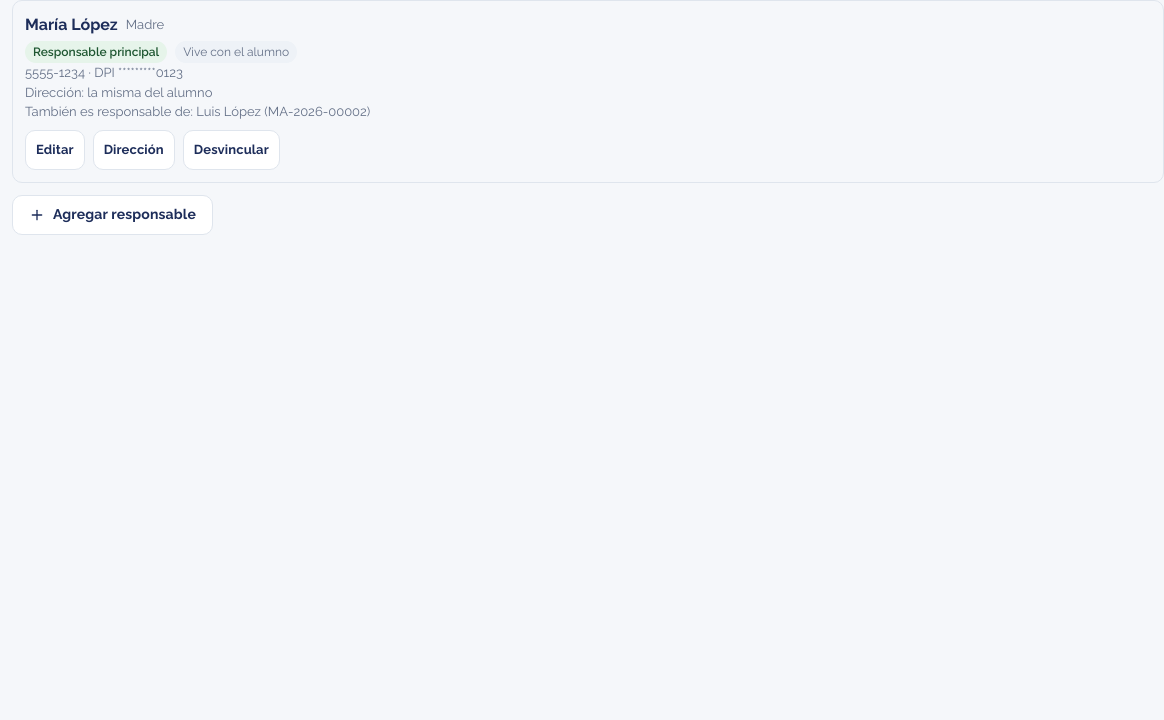
Test: panel de padres, madres y tutores › registra una dirección propia para el responsable que no vive con el alumno
This screenshot has width=1164, height=720.
Expected: the text "Dirección: la misma del alumno" is shown, 25,84 -> 212,100
Click the button with aria-label "Dirección de María López" at coordinates (134, 150), box 93,130 -> 175,170
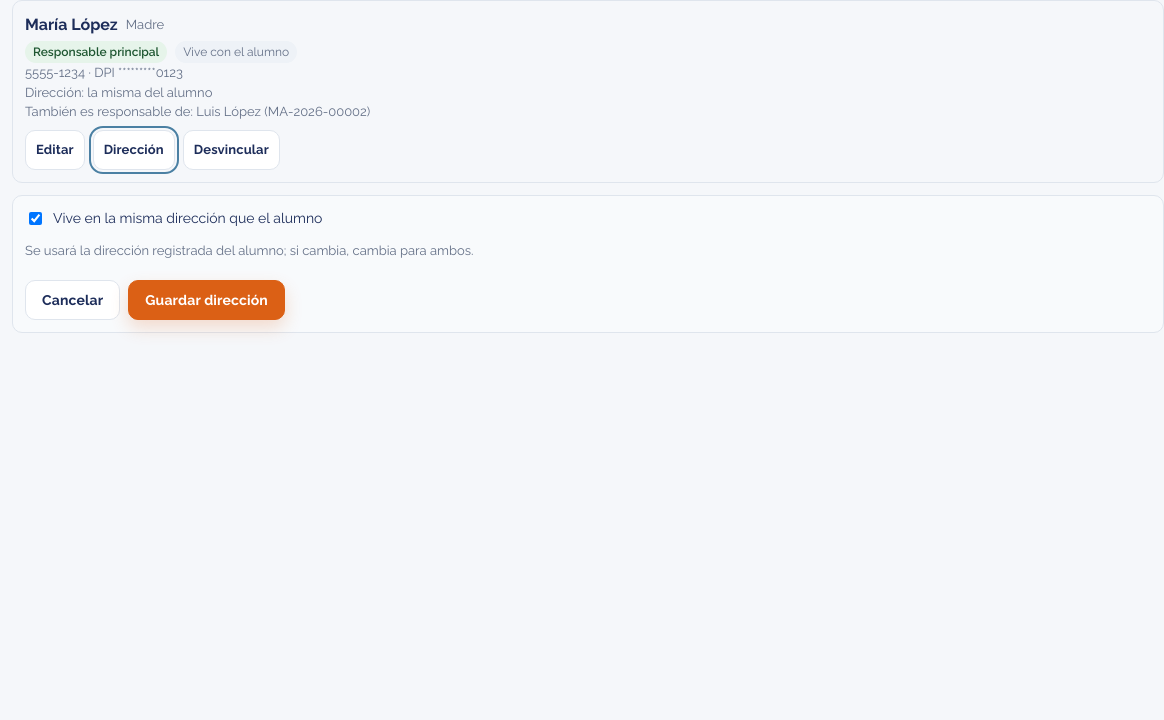
Click the checkbox labelled "Vive en la misma dirección que el alumno" at coordinates (36, 218), box 29,212 -> 42,224
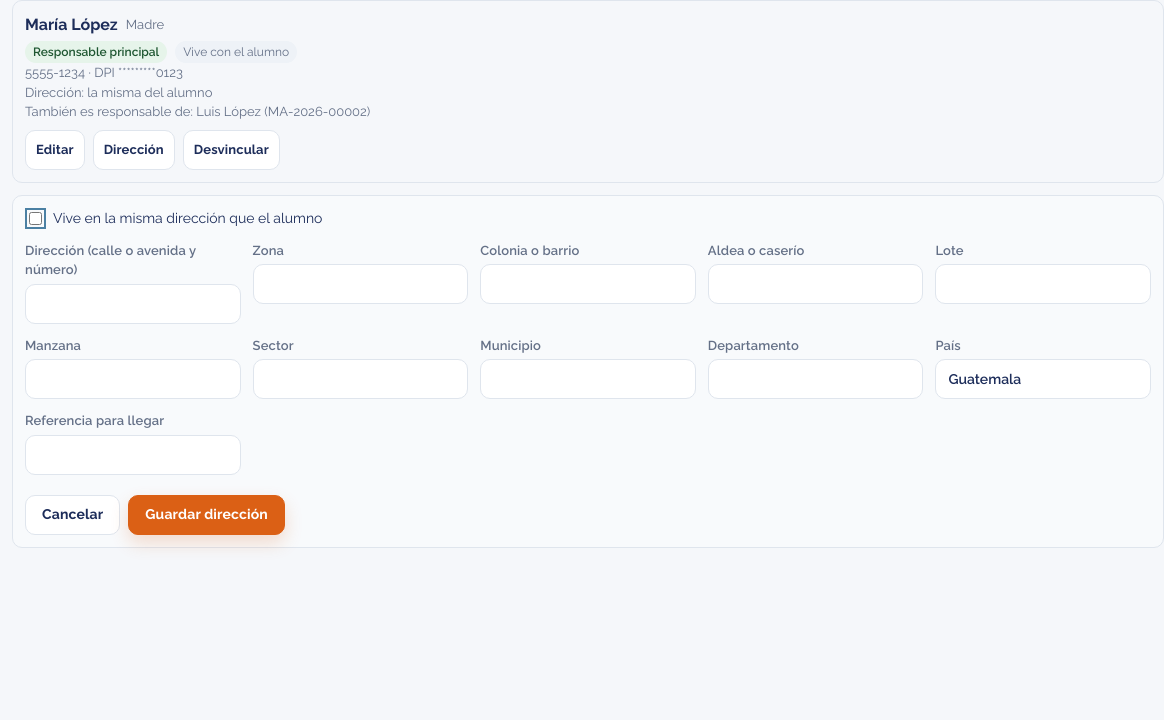
Type "Km 18" into the field labelled "Dirección (calle o avenida y número)" at coordinates (133, 304), box 25,284 -> 241,324
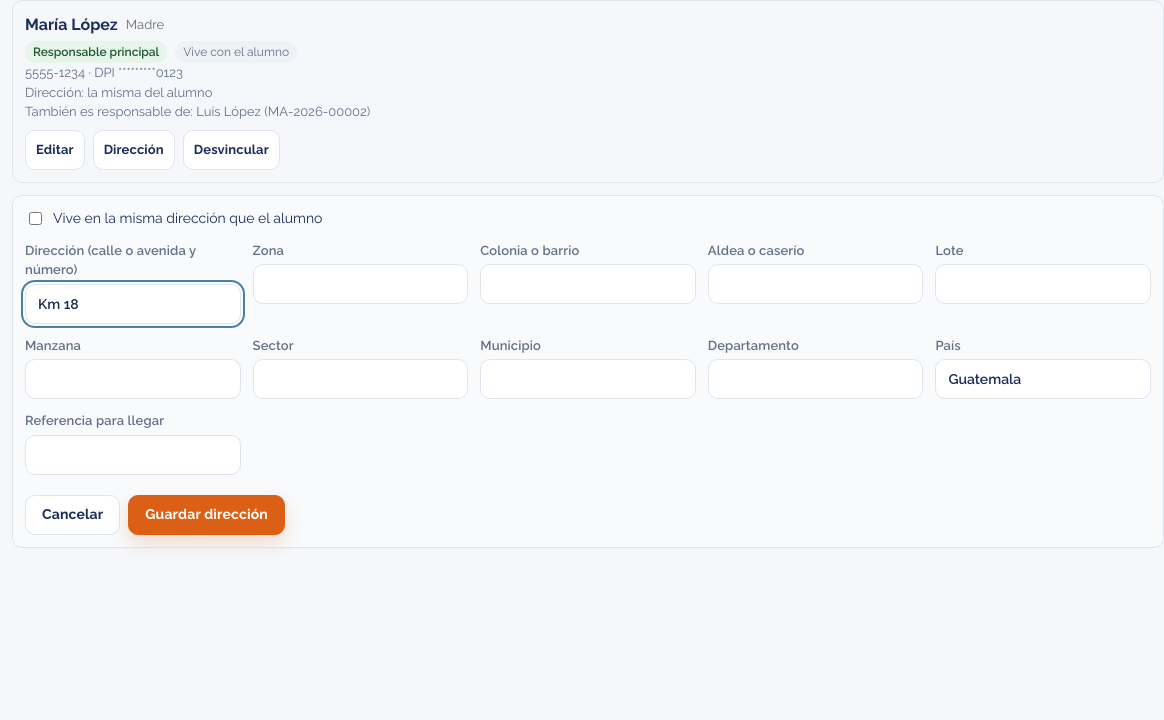
Type "Fraijanes" into the field labelled "Municipio" at coordinates (588, 379), box 480,359 -> 696,399
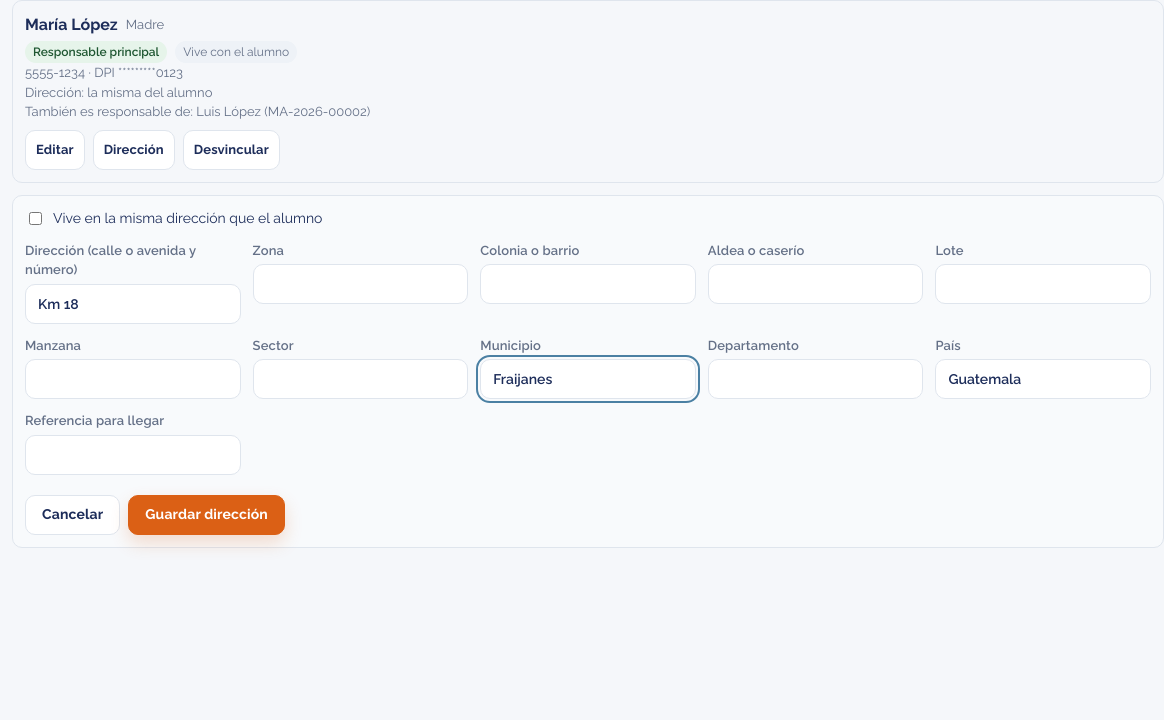
Type "Guatemala" into the field labelled "Departamento" at coordinates (816, 379), box 708,359 -> 923,399
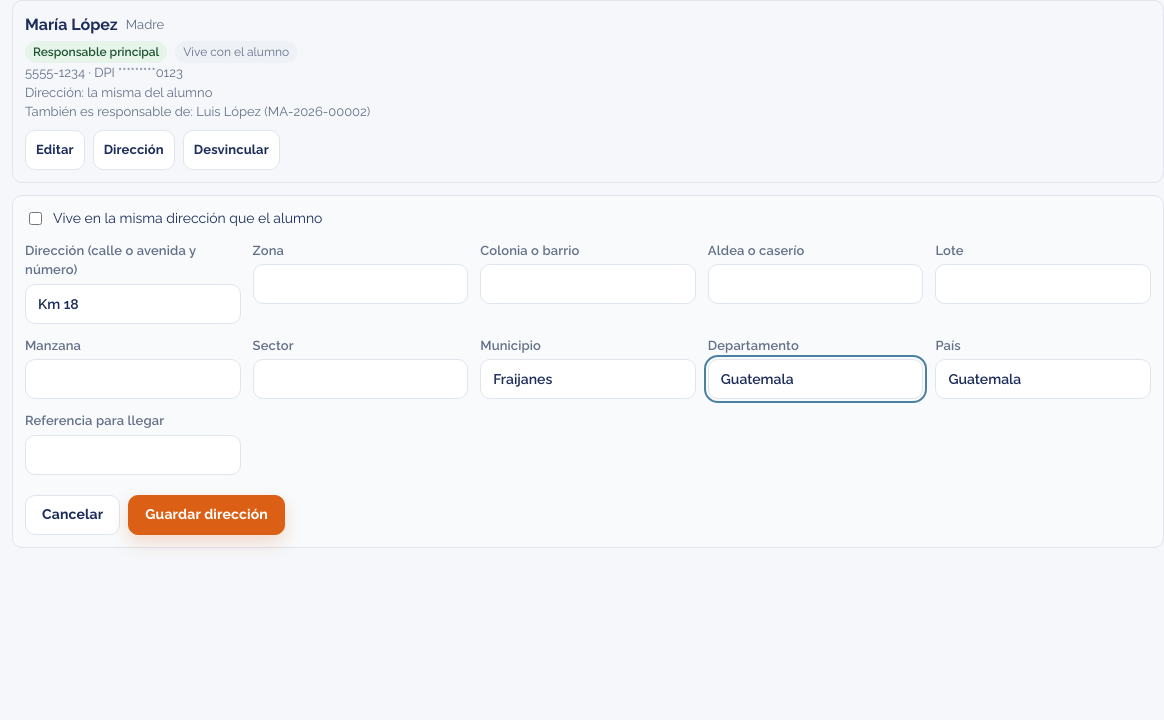
Click the button "Guardar dirección" at coordinates (207, 514), box 128,494 -> 285,534
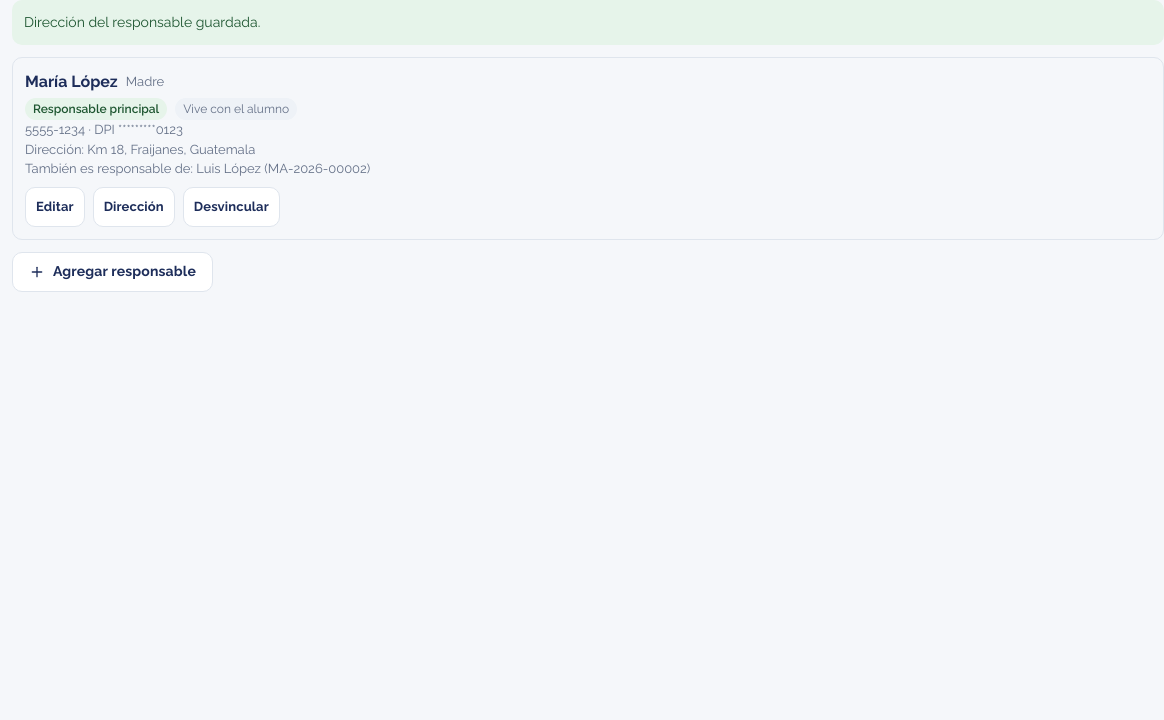
Result: the text "Dirección: Km 18, Fraijanes, Guatemala" is shown at 25,142 -> 255,156
